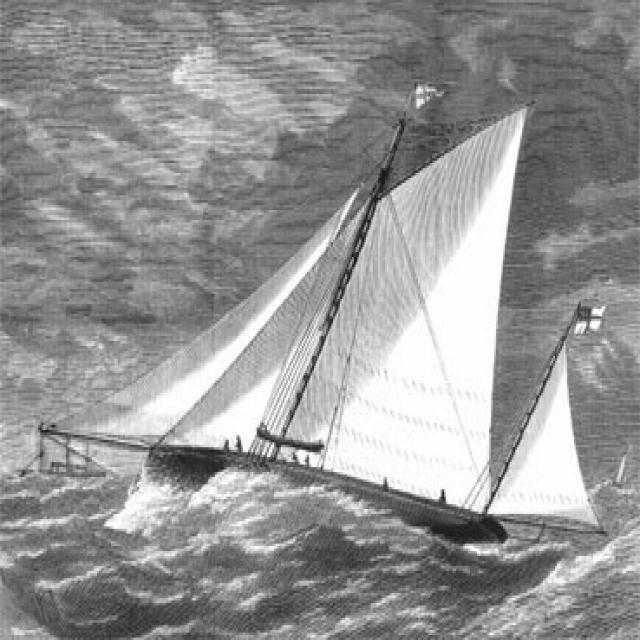Ship: (43, 96, 611, 552)
